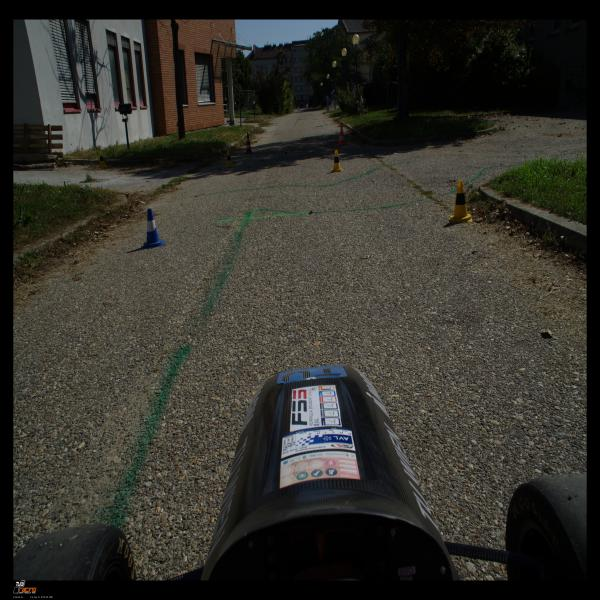blue_cone: (141, 209, 166, 249)
large_orange_cone: (337, 123, 347, 145), (244, 133, 253, 154)
yellow_cone: (449, 181, 472, 223), (330, 150, 343, 172), (224, 150, 234, 168)
